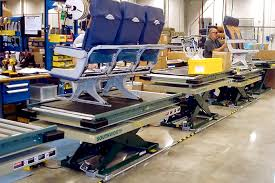Scissor Lift: (19, 89, 179, 181), (139, 63, 233, 132)
